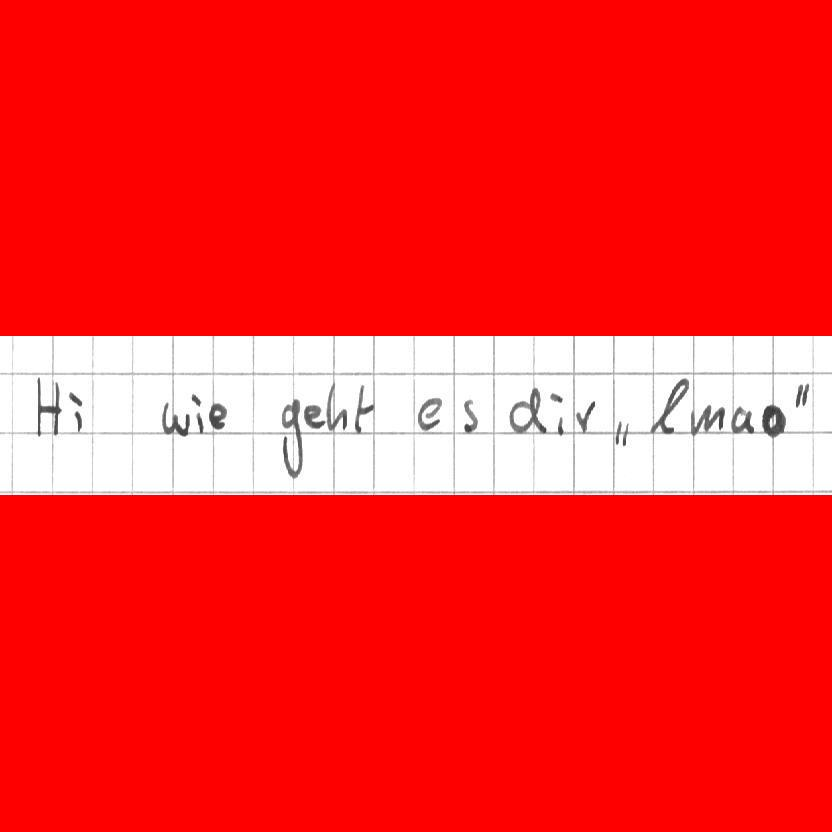Char: (647, 377, 687, 435), (278, 397, 304, 478), (34, 375, 62, 439), (509, 386, 545, 433), (689, 402, 725, 435), (352, 381, 374, 434), (160, 400, 188, 440), (326, 383, 348, 433), (416, 395, 443, 432), (760, 401, 785, 439), (572, 400, 595, 436), (460, 397, 480, 436), (550, 389, 566, 437), (69, 388, 84, 436), (207, 400, 228, 433), (731, 406, 755, 434), (304, 402, 325, 432), (191, 391, 204, 434), (612, 418, 629, 450), (791, 383, 810, 409)
